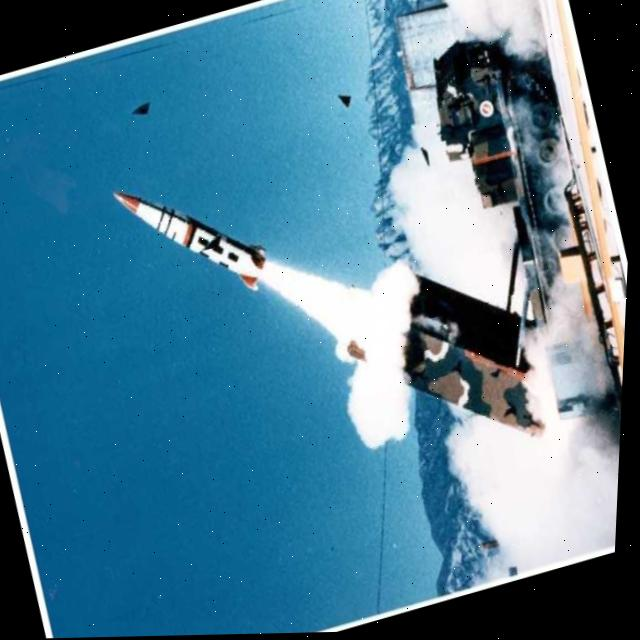missile: (103, 146, 278, 318)
